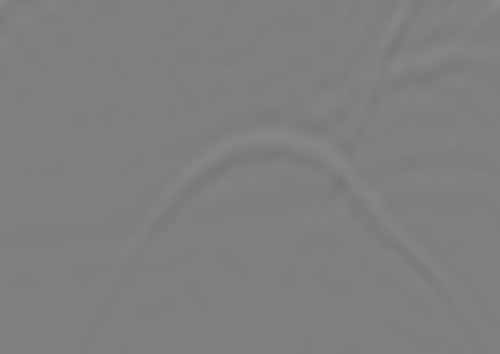hyperbola: (112, 131, 452, 324)
